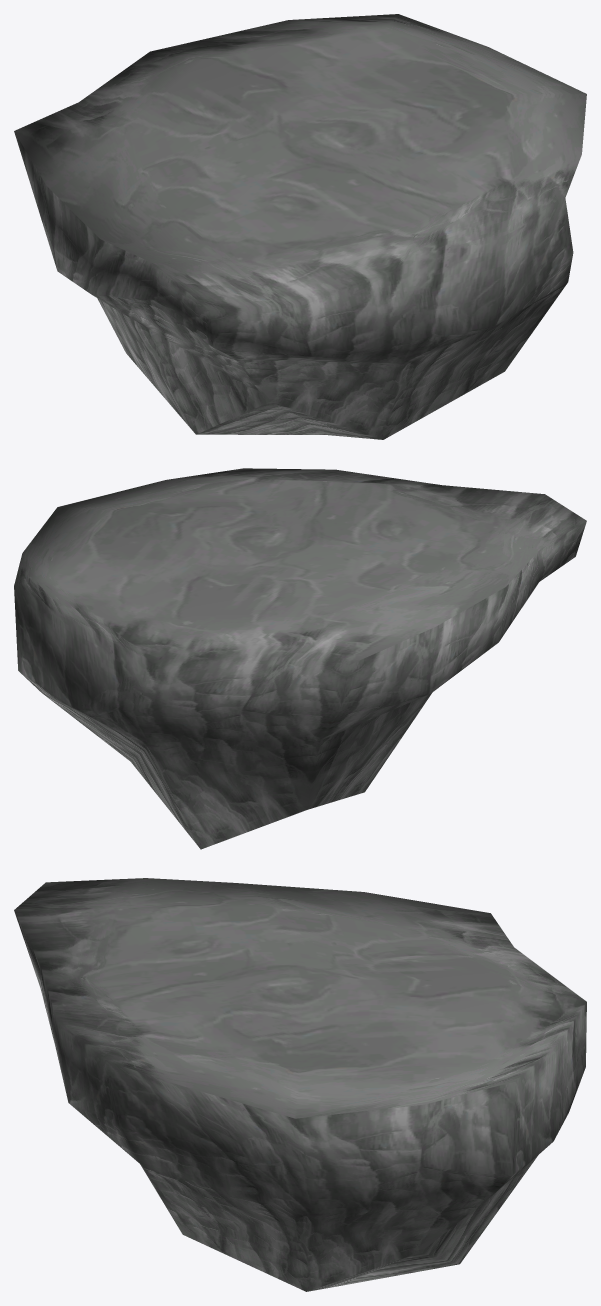
Rendered from INST_SWORDLIGHT_ROCKPLATA.fbx.
3 renders of one model, top to bottom at view 1: azimuth 30°, elevation 25°; view 2: azimuth 150°, elevation 25°; view 3: azimuth 270°, elevation 25°, orthographic. The views are drawn at different scales.
Parts seen in each view (by area): view 1: INST_SWORDLIGHT_ROCKPLATA; view 2: INST_SWORDLIGHT_ROCKPLATA; view 3: INST_SWORDLIGHT_ROCKPLATA.
Part boxes in pixels (x1=…): INST_SWORDLIGHT_ROCKPLATA: x1=14, y1=14, x2=586, y2=439; INST_SWORDLIGHT_ROCKPLATA: x1=14, y1=468, x2=586, y2=849; INST_SWORDLIGHT_ROCKPLATA: x1=14, y1=878, x2=586, y2=1291.
Bounding box in the file's own units: 11679 × 6912 × 12241.
3 materials, 3 textured.
